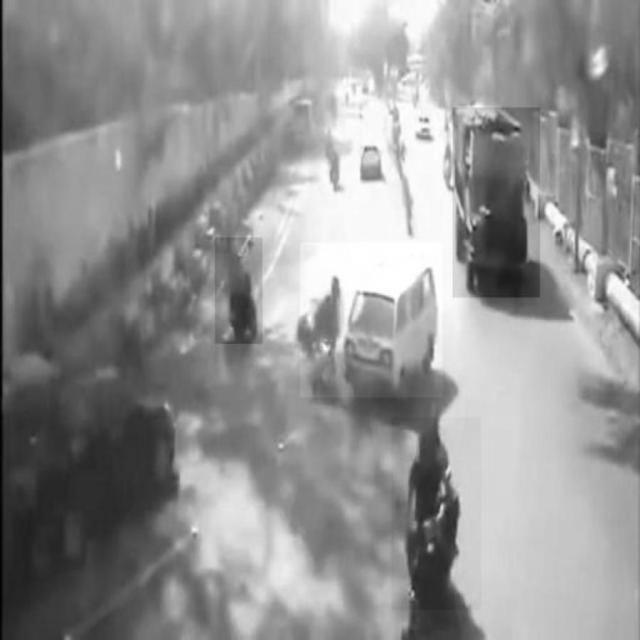accident: (300, 243, 442, 397)
vehicle: (391, 418, 481, 610), (453, 109, 541, 299), (216, 238, 263, 344)
